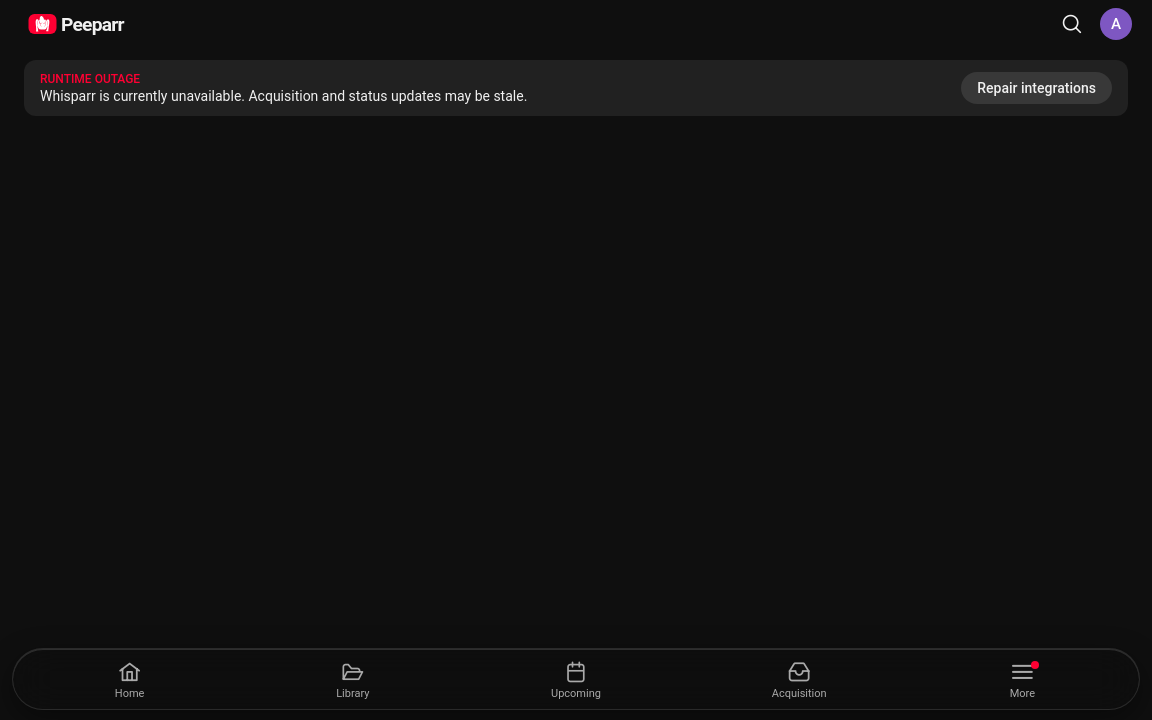
Scenario: AppShellLayoutComponent › keeps repair visibility available from the phone shell
The width and height of the screenshot is (1152, 720).
Expected: the element with test id "mobile-more-indicator" is shown, [1031,661,1039,669]
Click the button with test id "mobile-more-trigger": coordinates (1022, 679) [911,654,1134,704]
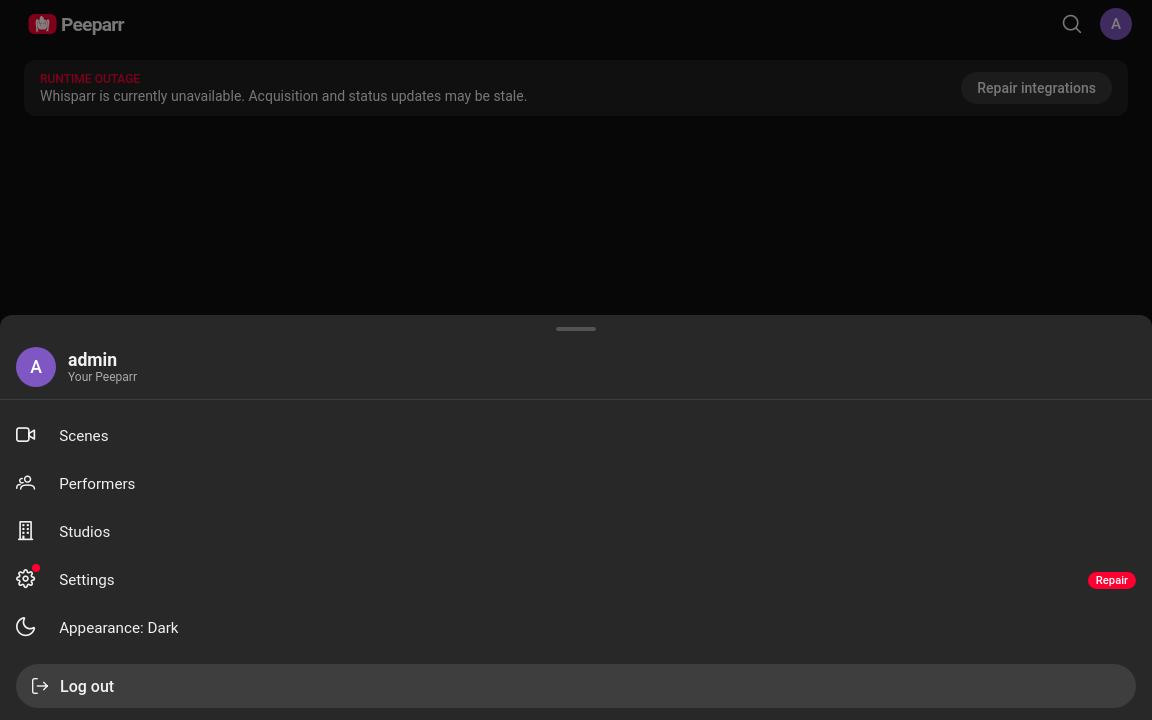
Expected: the message with test id "degraded-banner" is shown, [24,60,1128,116]
Expected: the text with test id "mobile-settings-nav-indicator" reads "Repair", [1096,574,1128,586]
